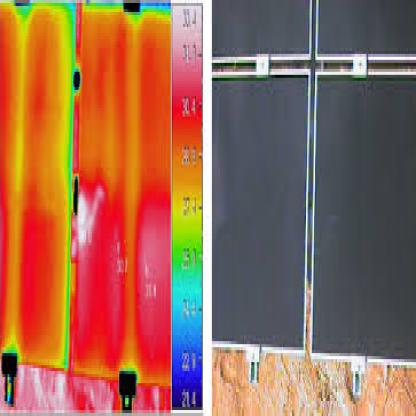Defects: (24, 210, 50, 338)
